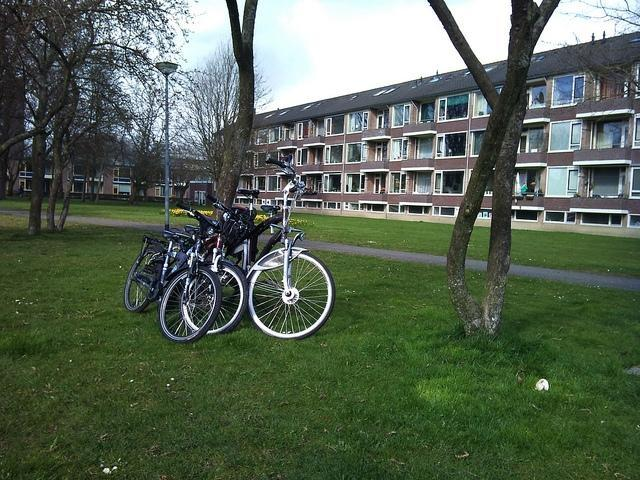bicycle: (248, 158, 337, 339), (124, 208, 220, 346), (174, 201, 248, 336)
